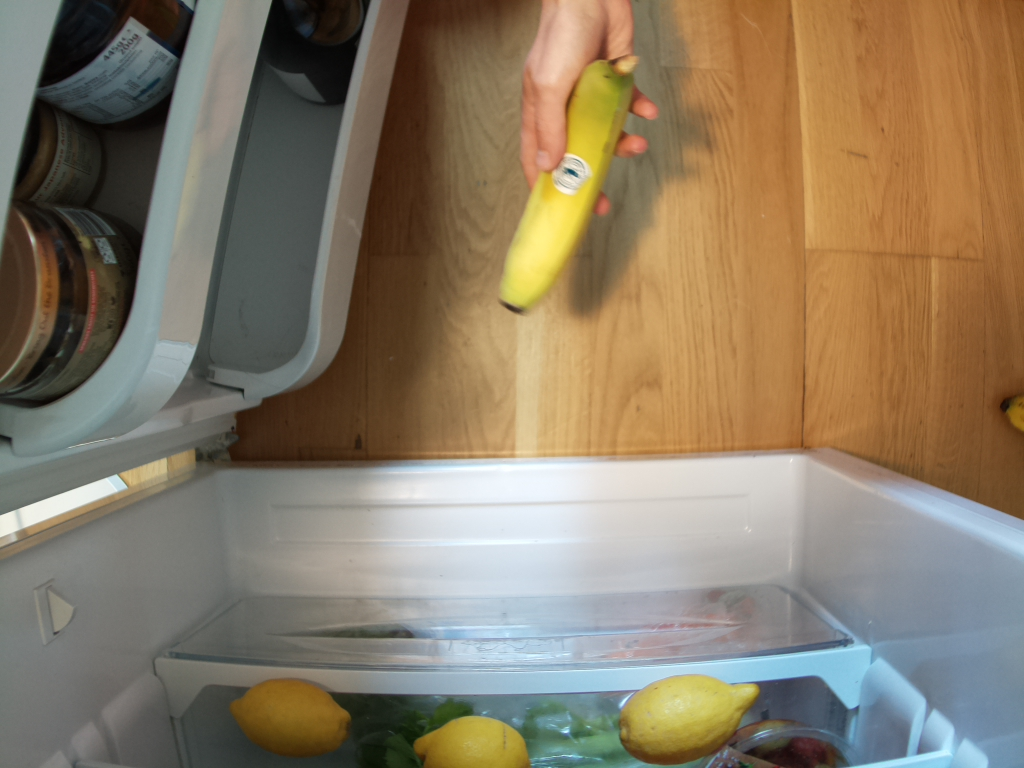banana-unripe: (496, 47, 645, 314)
